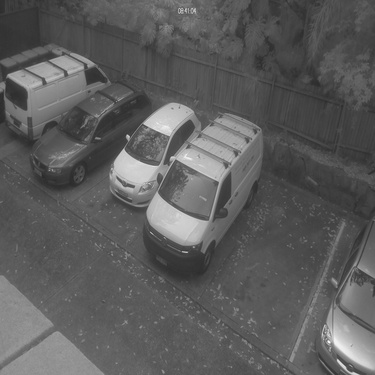car: (25, 76, 157, 189), (104, 97, 205, 209), (317, 210, 371, 373)
